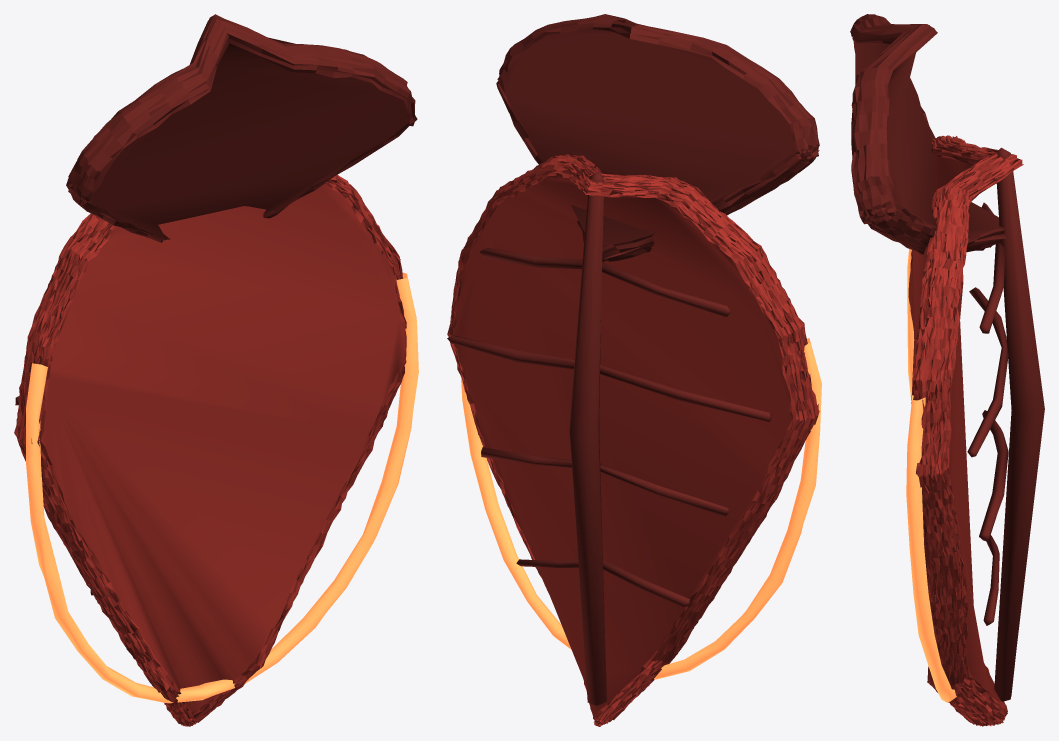
File: find_scale.glb
The picture shows the model from 3 angles, left to right: view 1: azimuth 30°, elevation 25°; view 2: azimuth 150°, elevation 25°; view 3: azimuth 270°, elevation 25°; orthographic projection. The views are drawn at different scales.
Parts seen in each view (by area): view 1: Scale; view 2: Scale; view 3: Scale.
Part boxes in pixels (<box>): Scale: <box>14,14,418,726</box>; Scale: <box>447,14,821,726</box>; Scale: <box>850,14,1044,726</box>.
Bounding box in the file's own units: 0.3426 × 0.6088 × 0.1532.
